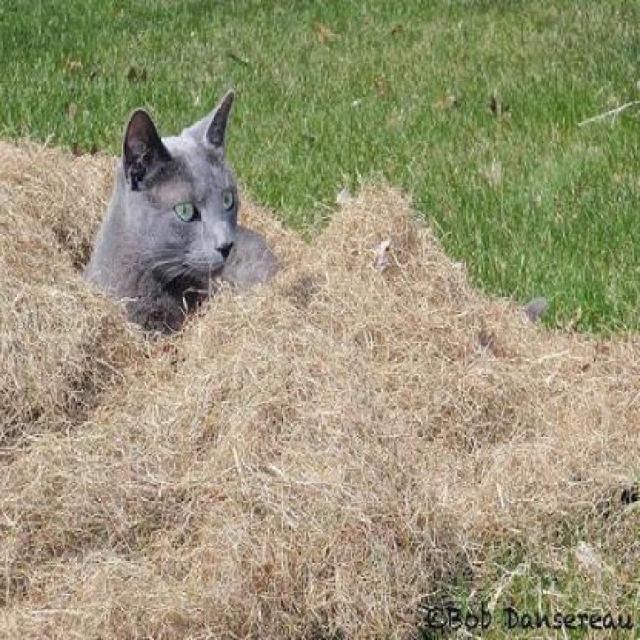cat: (77, 91, 280, 340)
